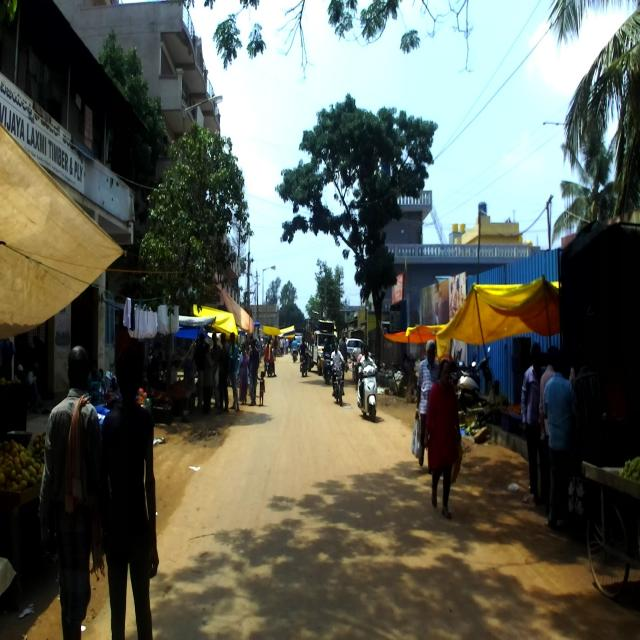motorcycle_TVS: (330, 357, 347, 406)
scooter: (457, 346, 493, 410), (356, 359, 379, 422)
